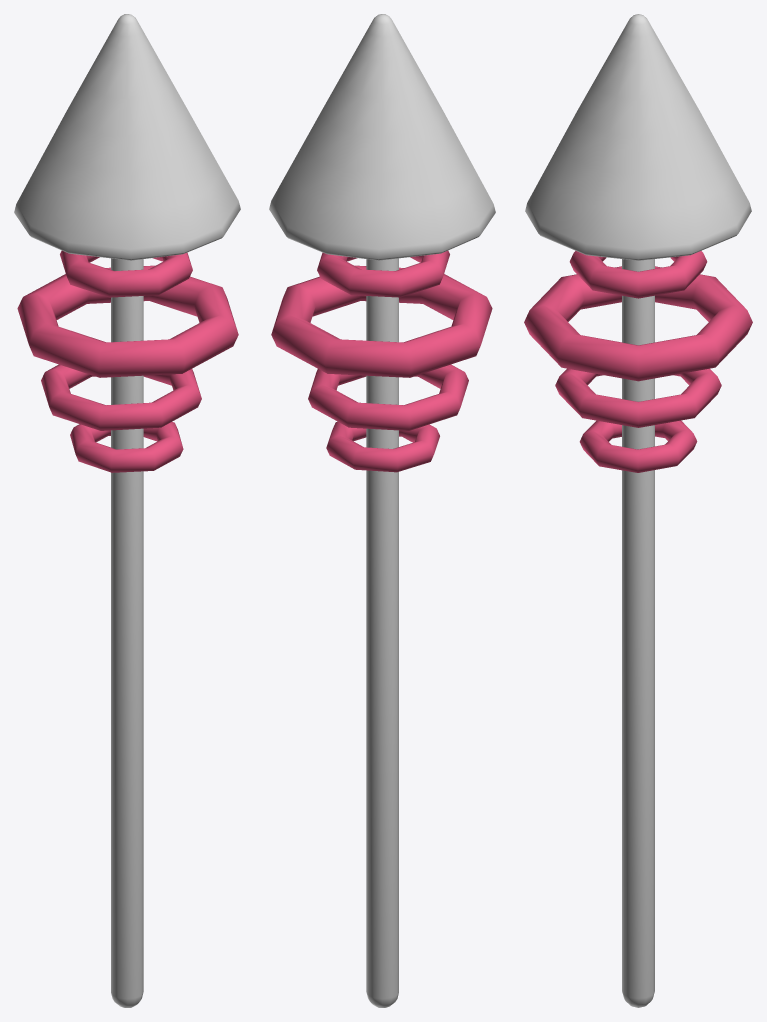
The model's file is Bunny_SpearAndRings.fbx.
3 views of the same model, side by side, from view 1: azimuth 30°, elevation 25°; view 2: azimuth 150°, elevation 25°; view 3: azimuth 270°, elevation 25° (orthographic).
Parts seen in each view (by area): view 1: Weapon_Shaft, Ring_Weapon2, Ring_Weapon3, Ring_Weapon1, Ring_Weapon4; view 2: Weapon_Shaft, Ring_Weapon2, Ring_Weapon3, Ring_Weapon1, Ring_Weapon4; view 3: Weapon_Shaft, Ring_Weapon2, Ring_Weapon3, Ring_Weapon1, Ring_Weapon4.
Part boxes in pixels (x1,y1,x2,y2): Weapon_Shaft: (14,14,240,1007); Ring_Weapon2: (17,265,238,377); Ring_Weapon3: (41,364,201,430); Ring_Weapon1: (60,250,192,297); Ring_Weapon4: (70,422,183,472); Weapon_Shaft: (269,14,495,1007); Ring_Weapon2: (271,265,492,377); Ring_Weapon3: (308,364,468,430); Ring_Weapon1: (317,250,449,297); Ring_Weapon4: (326,421,439,472); Weapon_Shaft: (525,14,751,1007); Ring_Weapon2: (524,266,752,381); Ring_Weapon3: (555,368,721,427); Ring_Weapon1: (569,251,707,298); Ring_Weapon4: (579,420,697,472).
Bounding box in the file's own units: 17.65 × 84.35 × 17.65.
